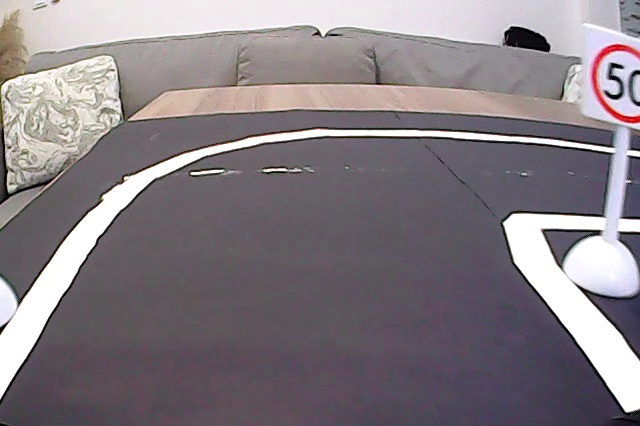speed limit 50: (583, 29, 639, 125)
